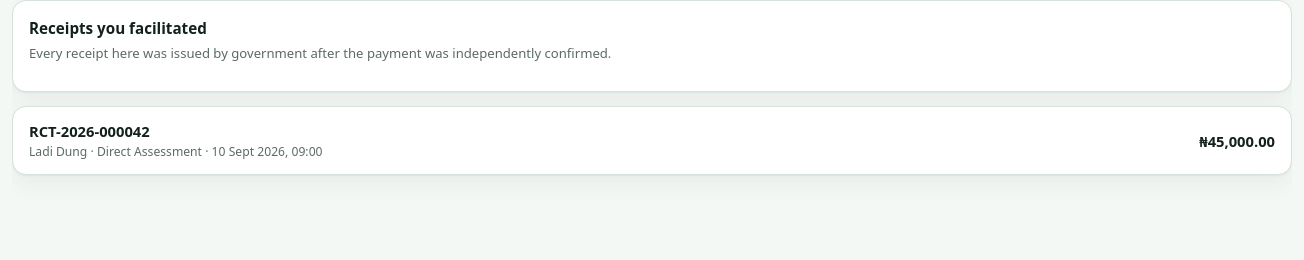
Test case: tapping a receipt that will not open › says why, rather than doing nothing at all
Click the text "RCT-2026-000042".
click(89, 132)  # box [29, 122, 150, 142]
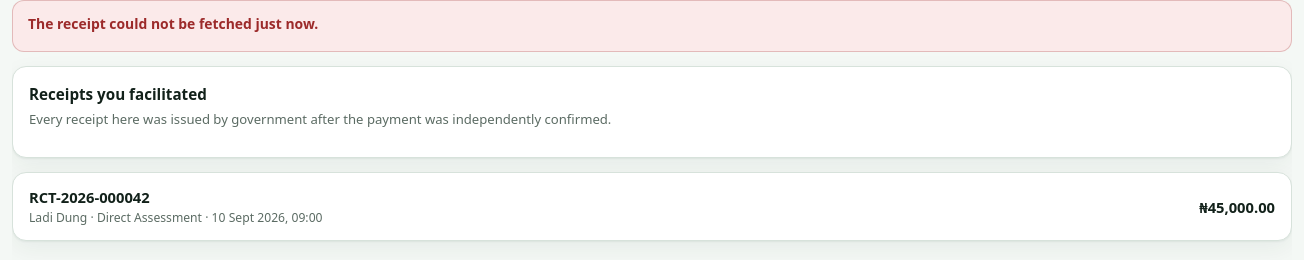
Expected: the text "The receipt could not be fetched just now." is shown, [28, 14, 318, 33]
